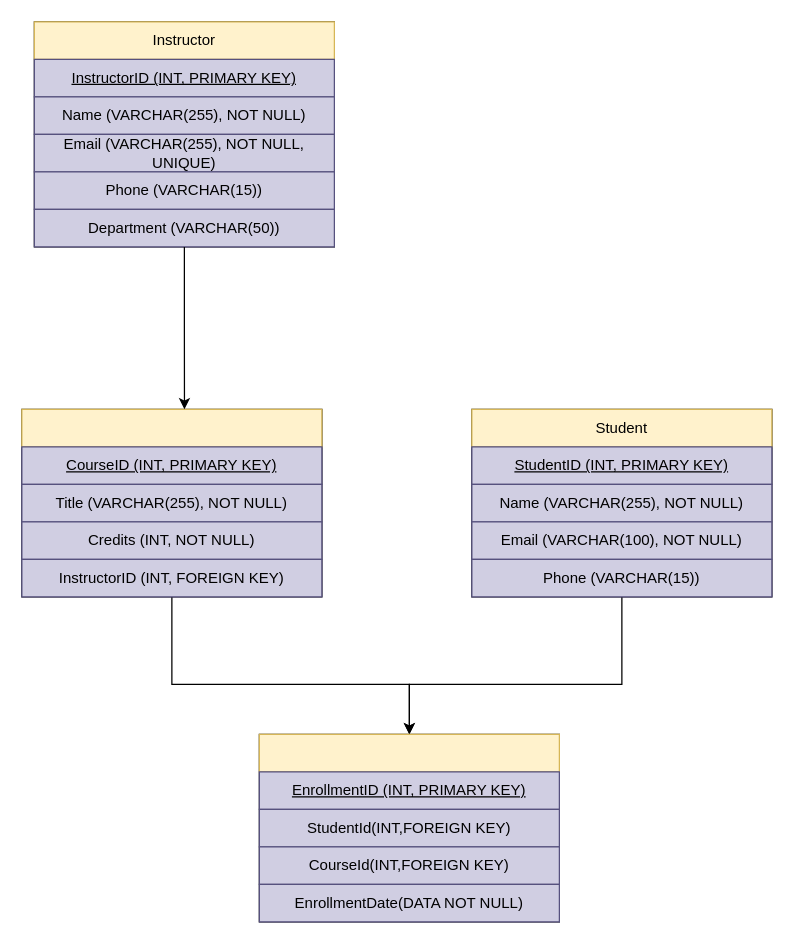
Some shapes in this 794 by 949 pixel diagram are drawn without their labels. The shapes that lost their labels are listed below. From the top down, each one's centre as x and y in pixels, then its label:
At point 171,427: "Course".
At point 408,752: "Enrollment".
